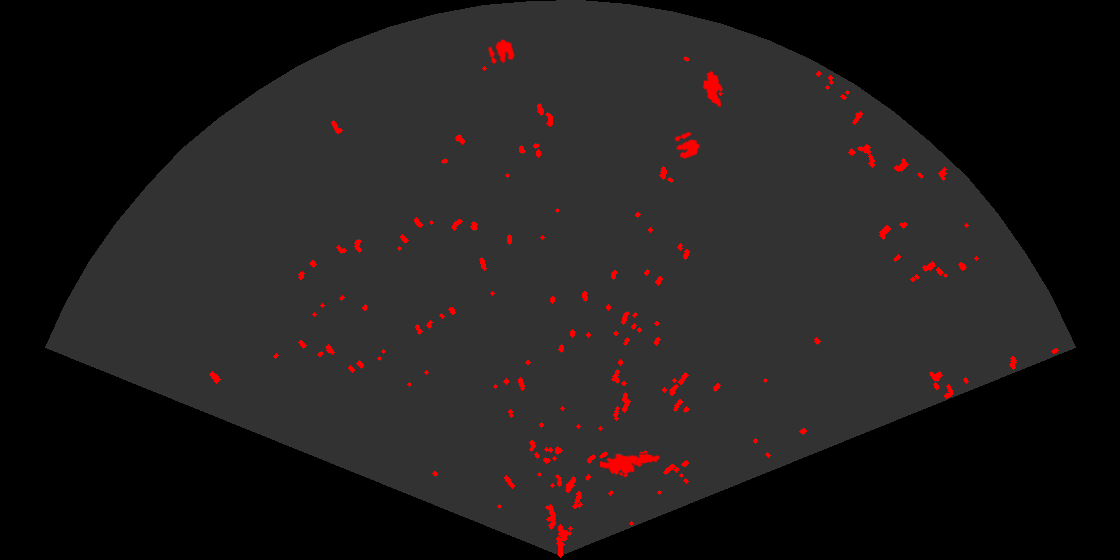AUV: (701, 69, 725, 109)
ball: (673, 130, 701, 160), (487, 38, 516, 66)
frogman: (600, 452, 661, 479)
